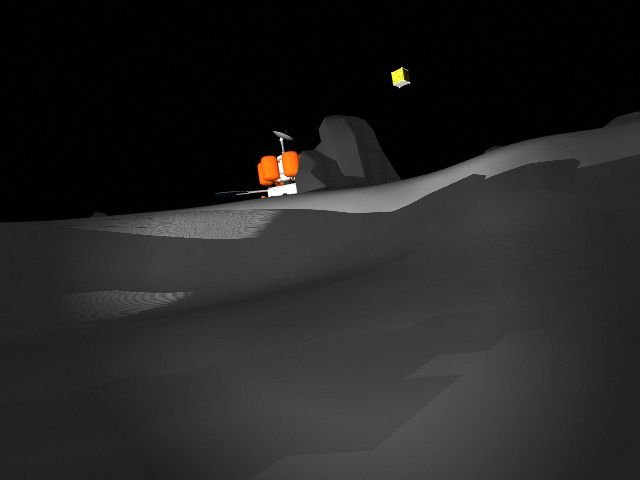cubesat: (386, 60, 420, 92)
